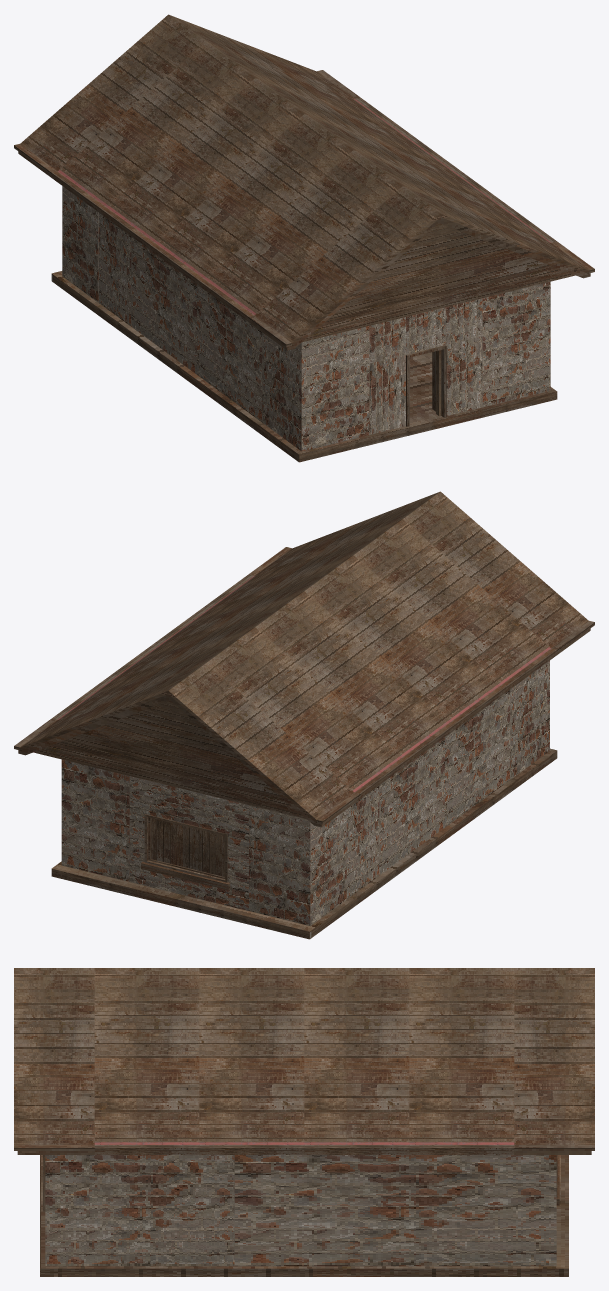
Rendered from brick_house_woodfloor.glb.
The picture shows the model from 3 angles, top to bottom: view 1: azimuth 30°, elevation 25°; view 2: azimuth 150°, elevation 25°; view 3: azimuth 270°, elevation 25°; orthographic projection. The views are drawn at different scales.
Visible parts, largest first — view 1: brick_house_woodfloor; view 2: brick_house_woodfloor; view 3: brick_house_woodfloor.
Part boxes in pixels (<box>): brick_house_woodfloor: <box>14,14,594,462</box>; brick_house_woodfloor: <box>14,491,594,939</box>; brick_house_woodfloor: <box>14,968,594,1276</box>.
Bounding box in the file's own units: 10.87 × 7.61 × 16.6.
Materials: 1 (1 with a texture image).
